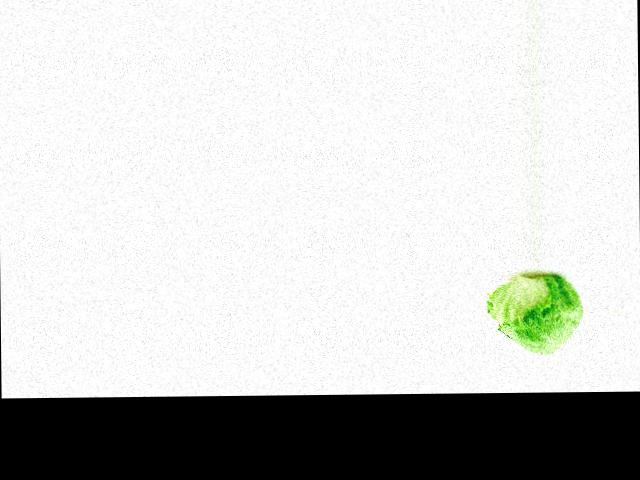lettuce: (487, 273, 586, 358)
